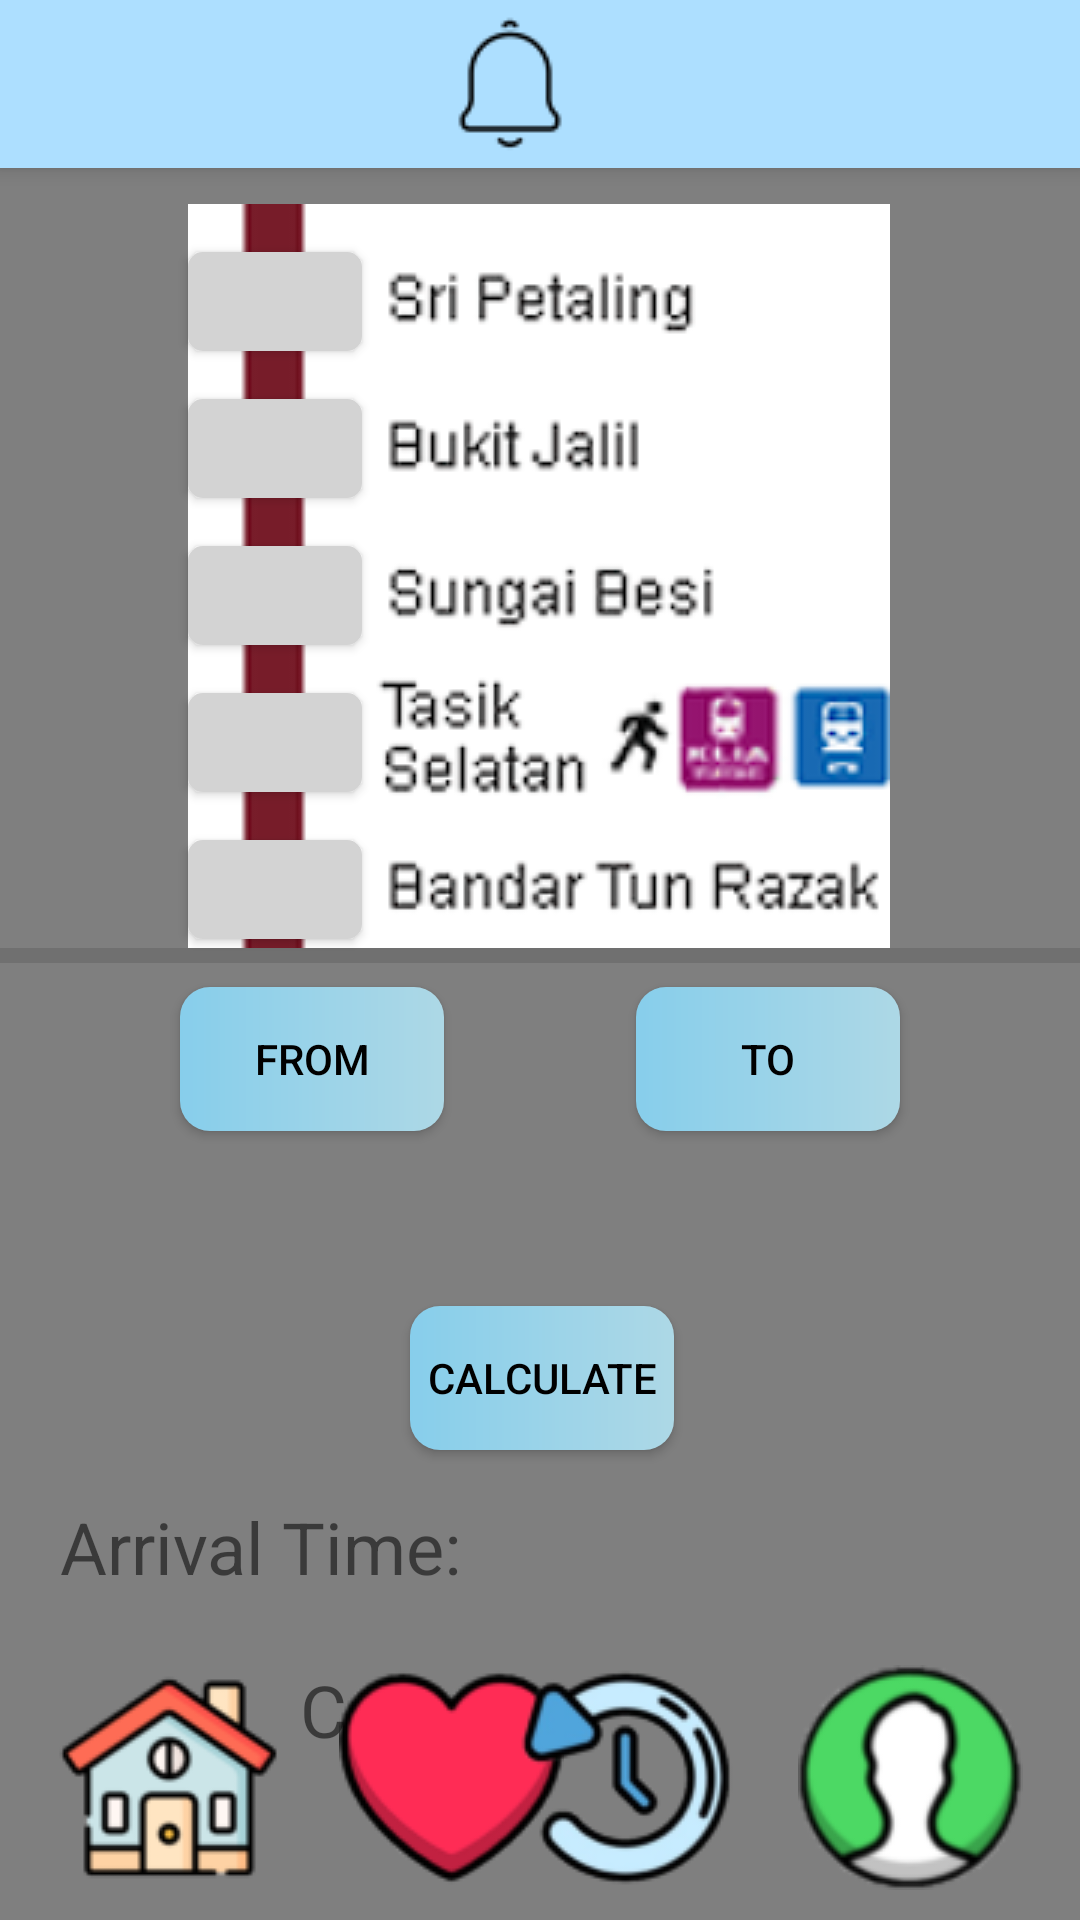

Icons on this 1080*1920 Android screen, each with the point to tap as (x=x, y=y):
heart: (x=451, y=1777)
history: (x=623, y=1777)
home: (x=169, y=1777)
notification: (x=510, y=83)
profile: (x=909, y=1777)
